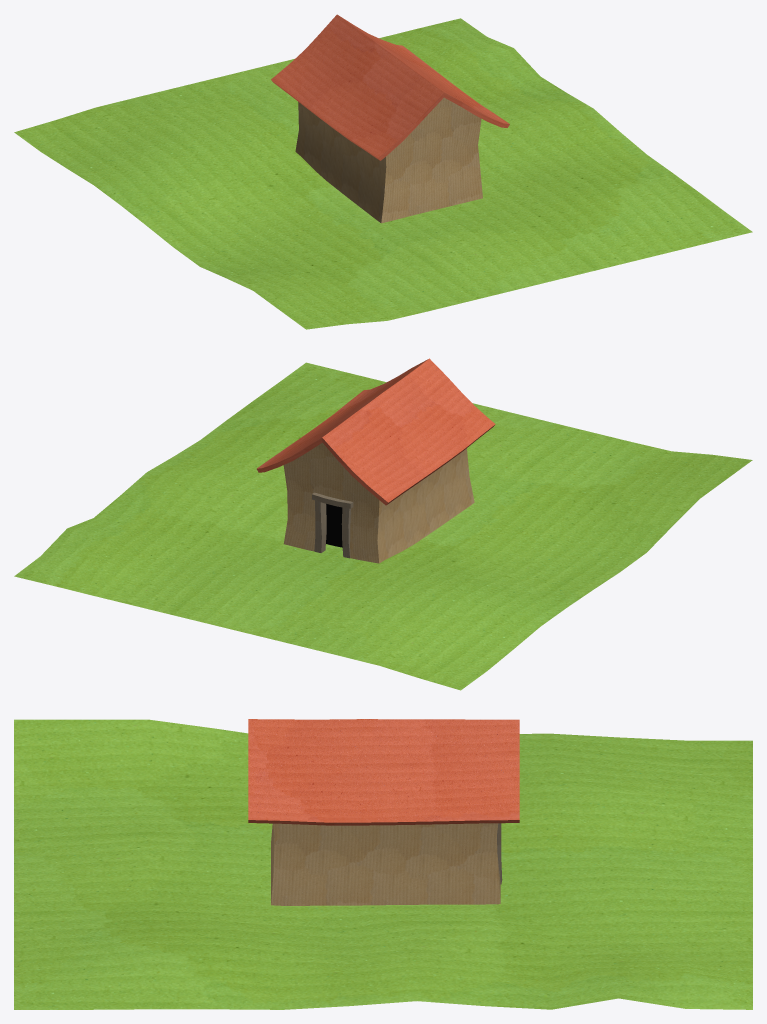
File: House.fbx
The picture shows the model from 3 angles, top to bottom: view 1: azimuth 30°, elevation 25°; view 2: azimuth 150°, elevation 25°; view 3: azimuth 270°, elevation 25°; orthographic projection. The views are drawn at different scales.
Visible parts, largest first — view 1: pPlane1, Roof, Shell; view 2: pPlane1, Roof, Shell, Door_Arch, Interior; view 3: pPlane1, Roof, Shell.
Boxes of the visible parts, x1,y1,x2,y2 form: pPlane1: (14,18,752,329); Roof: (271,14,509,160); Shell: (295,97,482,223); pPlane1: (14,362,752,690); Roof: (257,358,495,505); Shell: (283,443,474,563); Door_Arch: (312,492,353,558); Interior: (326,504,342,547); pPlane1: (14,719,752,1009); Roof: (248,719,519,825); Shell: (271,823,500,905).
Size of the model in its own units: 51.06 by 14.22 by 57.83.
Materials: 5 (4 with a texture image).
